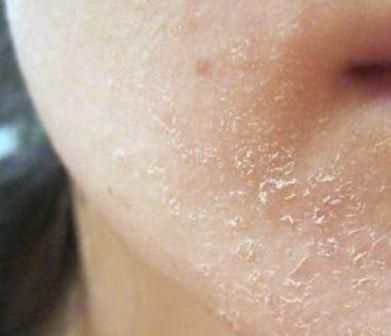Dry-Skin: (239, 153, 299, 204), (218, 203, 261, 261), (229, 25, 282, 70), (318, 176, 353, 238), (345, 240, 391, 282)
